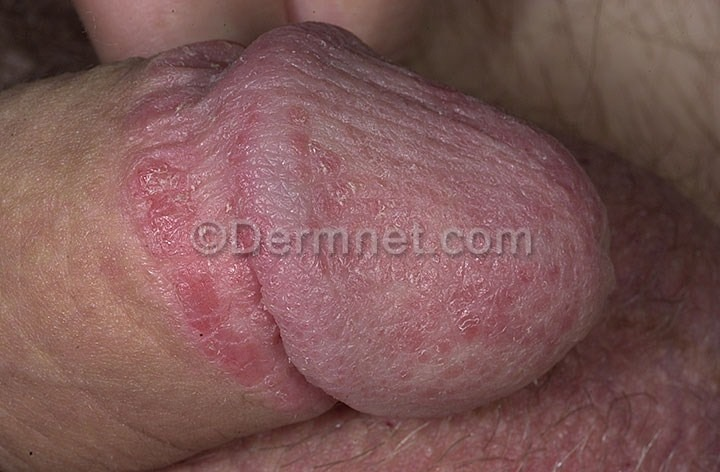Psoriasis: (114, 46, 594, 371)
